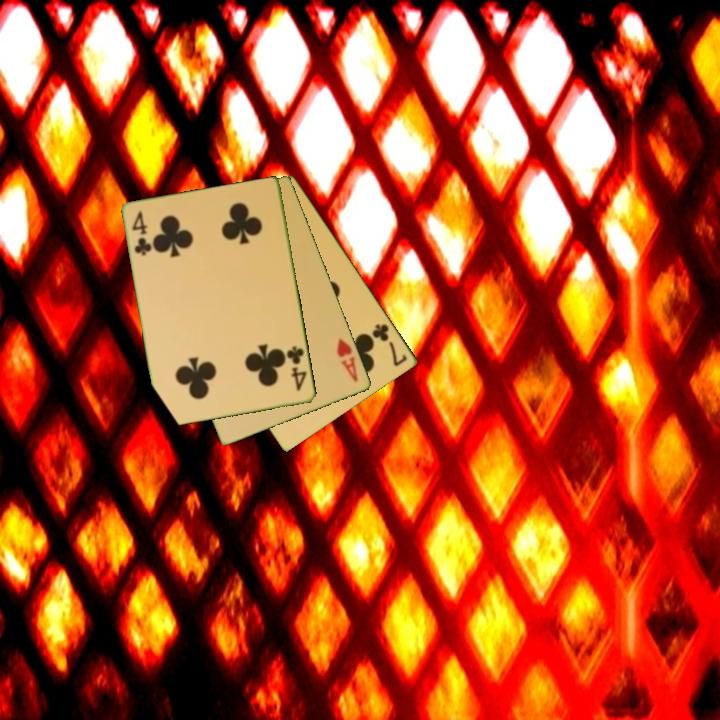4c: (283, 343, 310, 394), (129, 207, 154, 259)
7c: (369, 320, 410, 369)
Ah: (333, 335, 361, 385)
